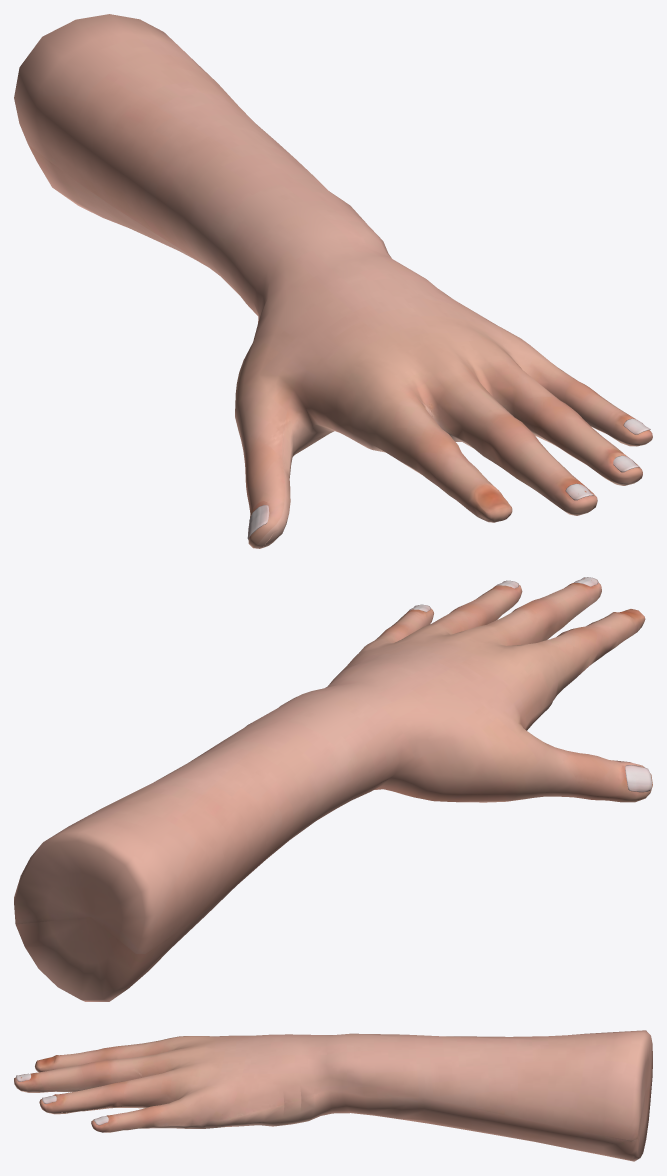
The model's file is New Lady hand_no bones.fbx.
3 views of the same model, one above another, from view 1: azimuth 30°, elevation 25°; view 2: azimuth 150°, elevation 25°; view 3: azimuth 270°, elevation 25° (orthographic). The views are drawn at different scales.
Parts seen in each view (by area): view 1: Hand; view 2: Hand; view 3: Hand.
Part boxes in pixels (x1,y1,x2,y2): Hand: (14,14,652,548); Hand: (14,577,652,1001); Hand: (14,1030,652,1161).
Size of the model in its own units: 1138 by 623 by 3138.
Materials: 1 (1 with a texture image).
